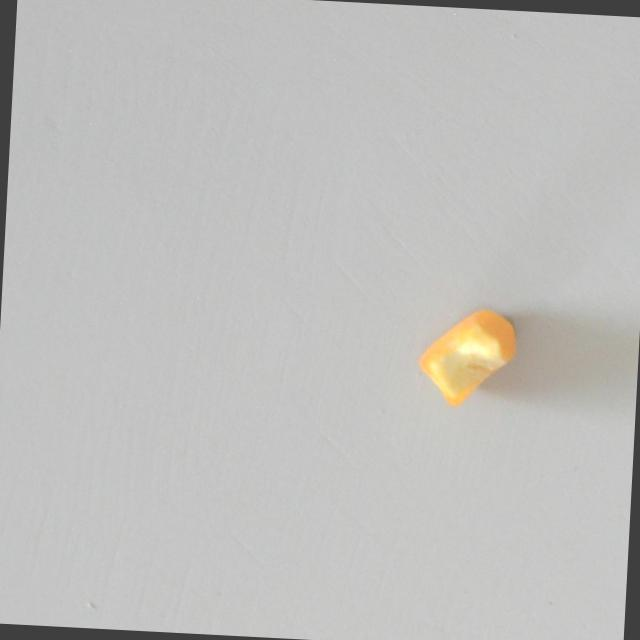no_canjicado: (409, 298, 531, 418)
